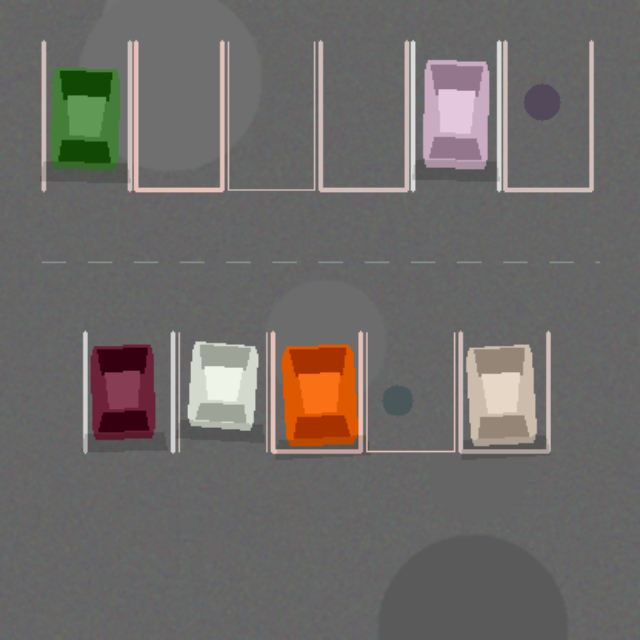space-empty: (135, 42, 222, 189), (228, 42, 314, 189), (320, 42, 406, 189), (505, 42, 591, 189), (366, 332, 454, 451)
space-occupied: (43, 42, 129, 189), (412, 42, 498, 189), (178, 332, 266, 451), (272, 332, 360, 451), (460, 332, 548, 451), (85, 332, 172, 451)
